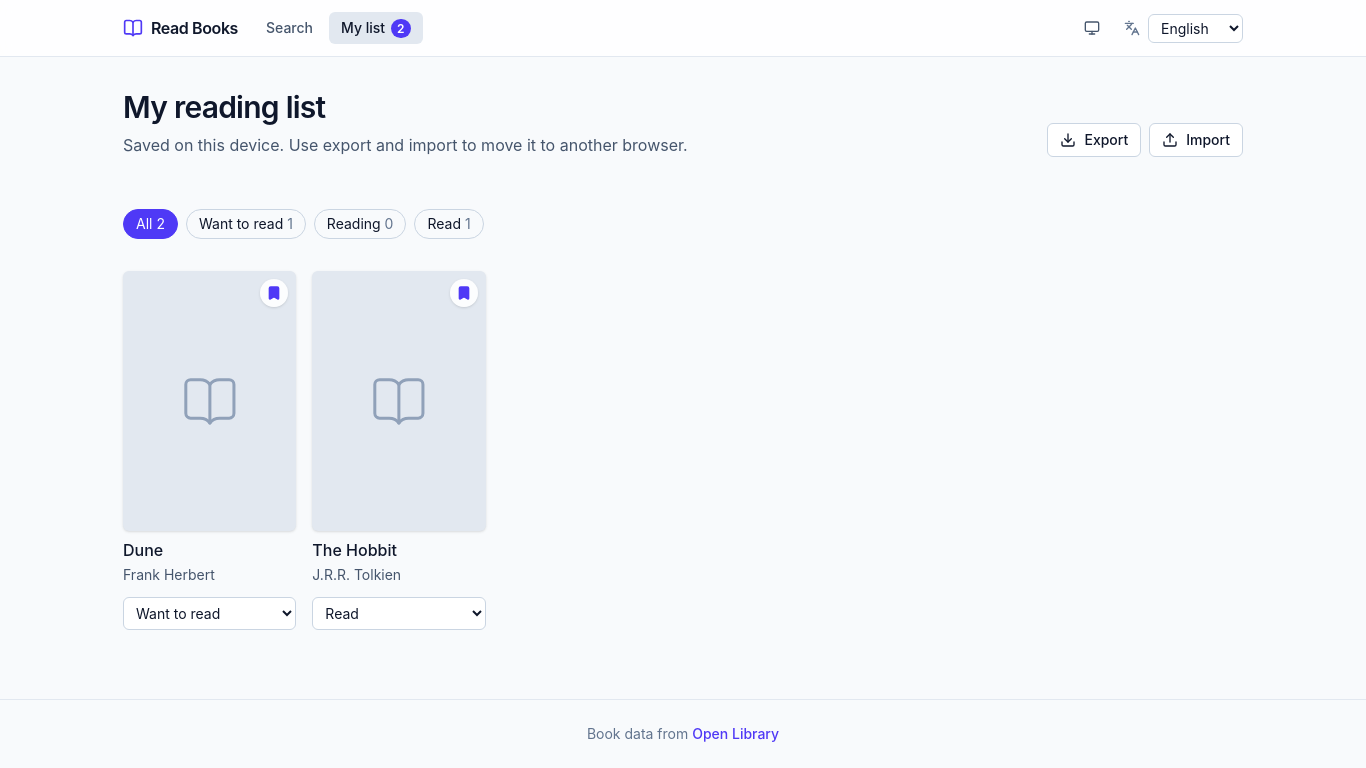
it: ReadingListPage › lists saved books, filters by shelf, and moves books between shelves
Check: the headings read "Dune", "The Hobbit", in this order, box top-left (123, 540), bottom-right (163, 560); top-left (312, 540), bottom-right (397, 560)
Click the link "Read 1".
click(449, 224)  # box top-left (414, 209), bottom-right (484, 239)
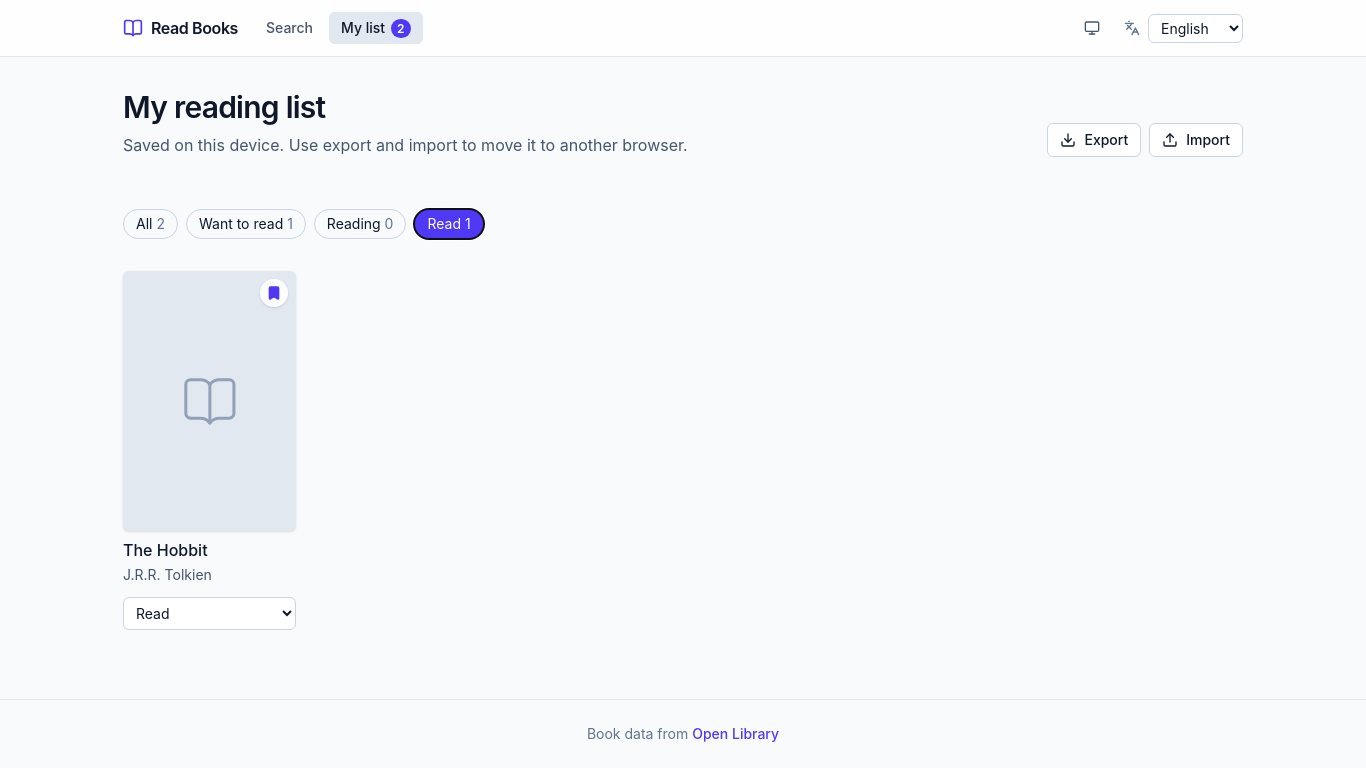
Select "Reading" in the dropdown named "Reading list status for “The Hobbit”" at (210, 614), box top-left (123, 597), bottom-right (296, 630)
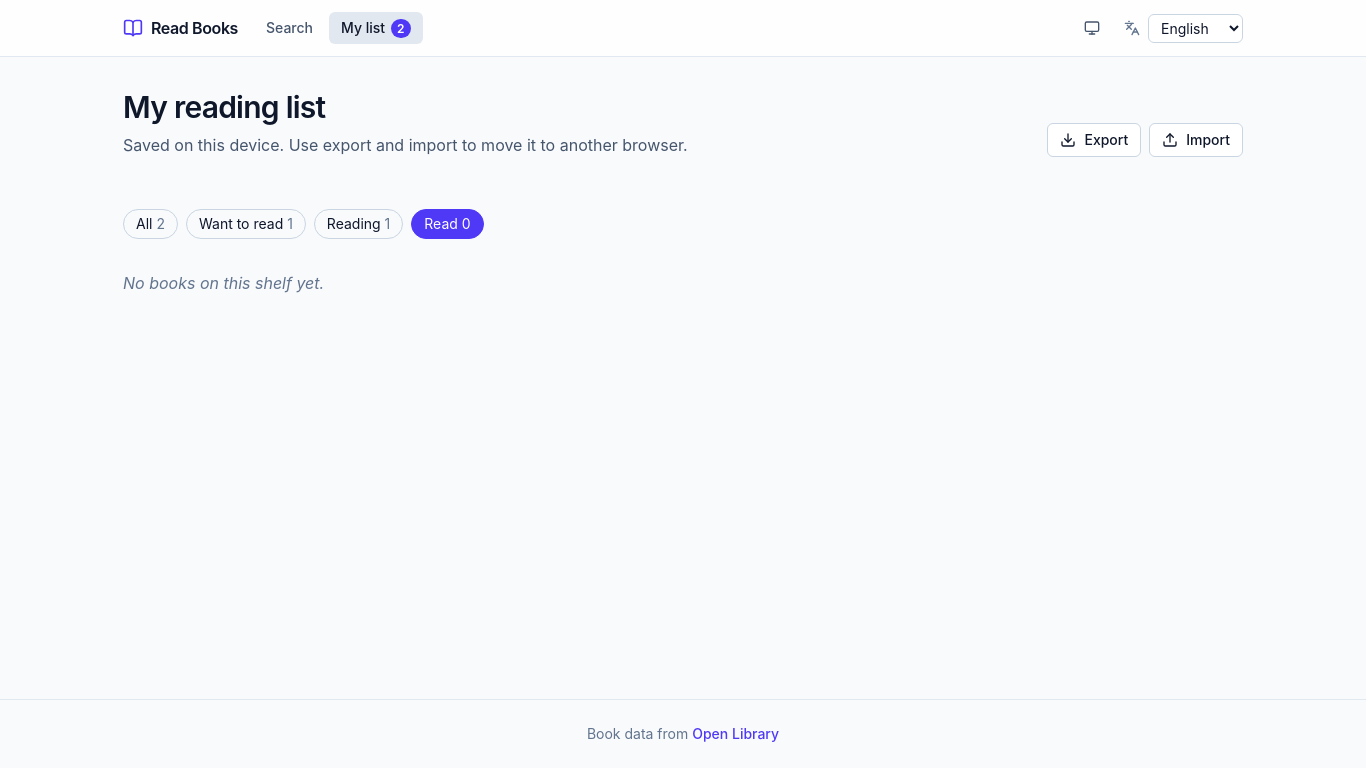
Check: the text "No books on this shelf yet." is shown, box top-left (123, 273), bottom-right (324, 293)
Check: the link "Reading 1" is shown, box top-left (314, 209), bottom-right (403, 239)
